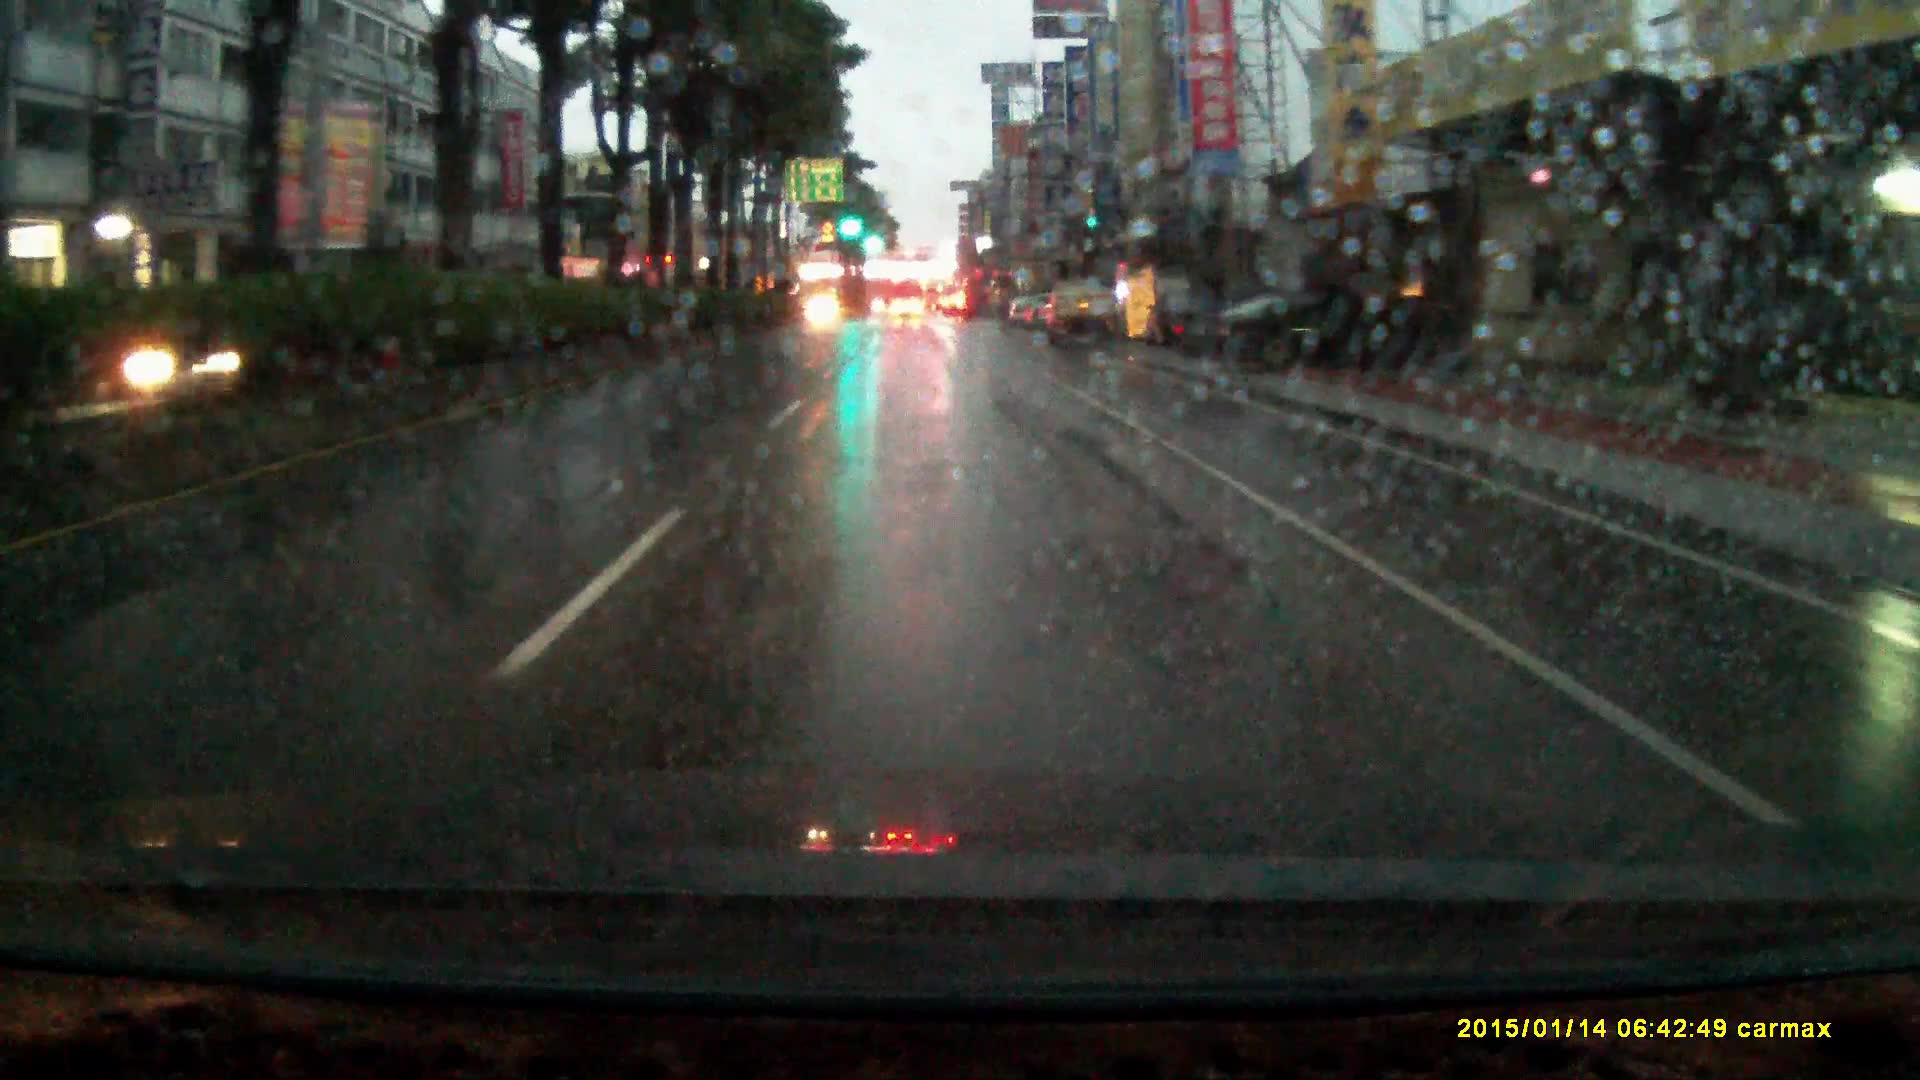vehicle: (1176, 290, 1458, 373), (1145, 291, 1218, 356), (1050, 277, 1116, 345), (804, 299, 843, 334), (889, 299, 927, 324), (922, 280, 945, 315)
